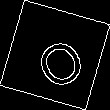O_NW: (24, 22, 86, 88)
